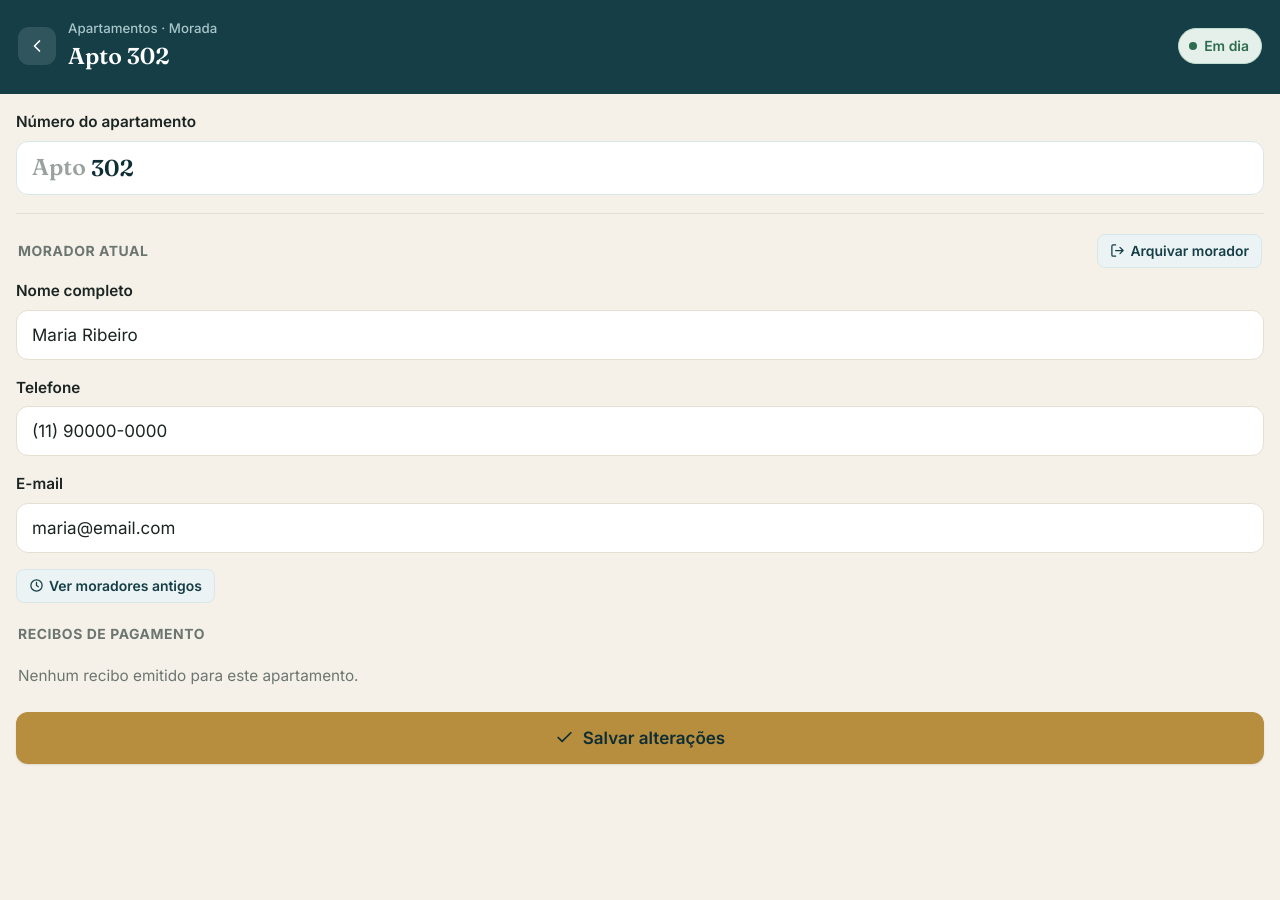
Test: ResidentEditScreen › shows an empty state under moradores antigos when there is no history
This screenshot has width=1280, height=900.
Click the button "Ver moradores antigos".
click(115, 586)  # box [16, 569, 215, 603]
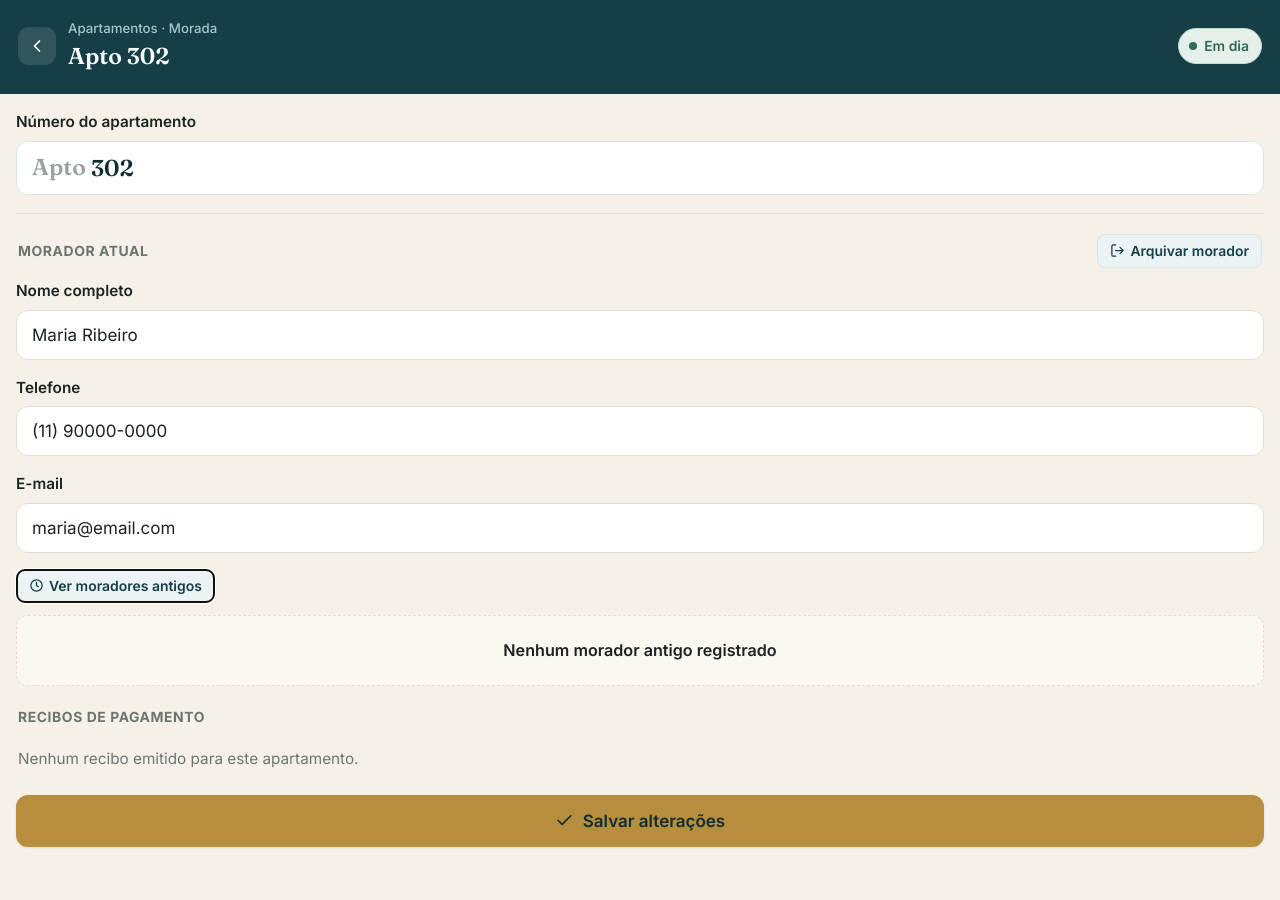
Expected: the text "Nenhum morador antigo registrado" is shown, [503, 638, 777, 663]
